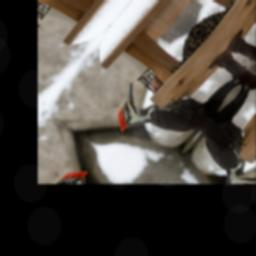Woodpecker: (96, 32, 246, 169)
